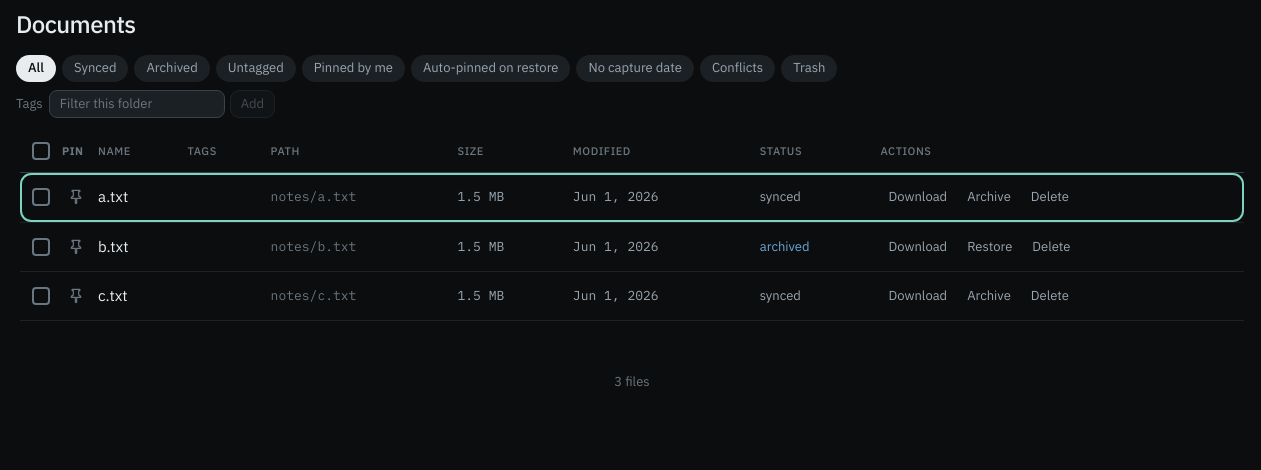
Test case: FileBrowser › should show only Pin for one unpinned file and give every menu action an icon
Check: the button "a.txt" is shown, box [98,186,128,209]
Right-click the row that starts with "a.txt" at (632, 197), box [20,173,1244,222]
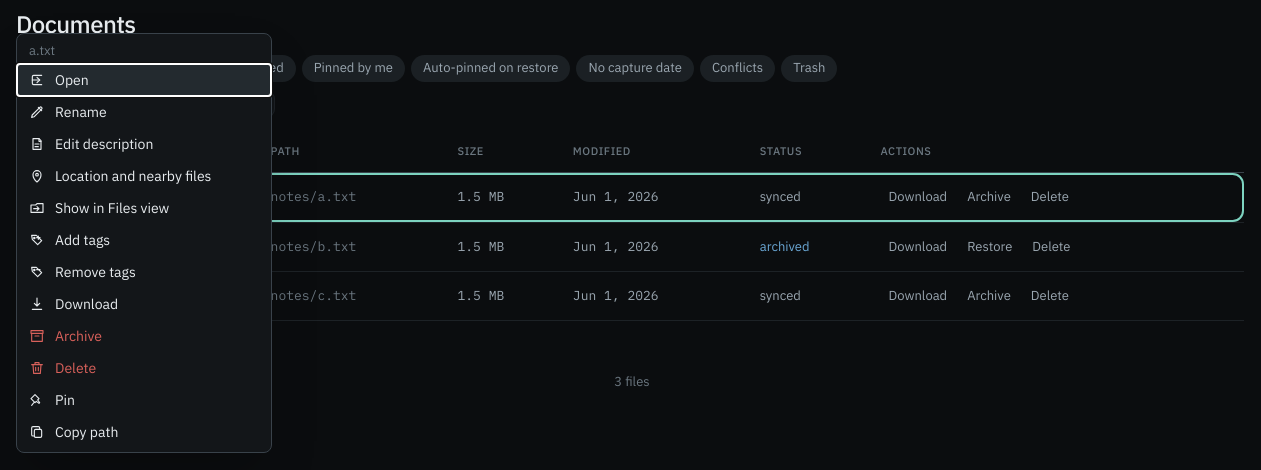
Check: the menu item "Pin" is shown, box [17,384,271,416]
